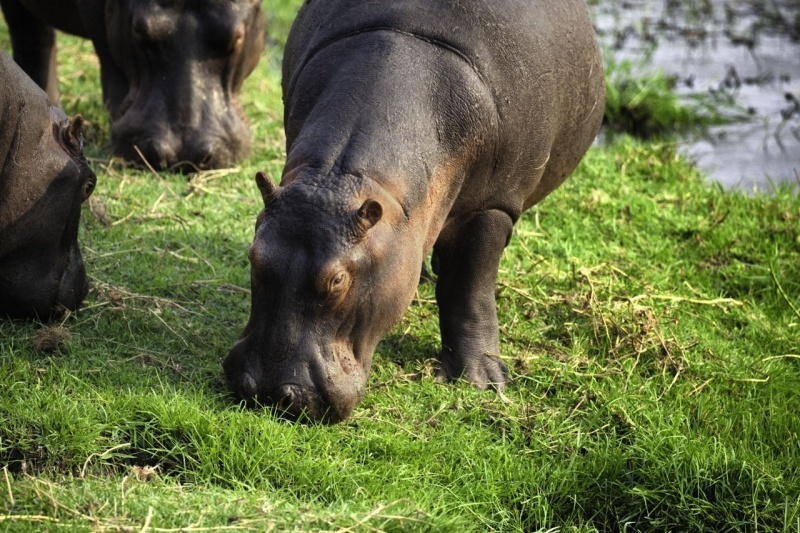hipopotamo: (197, 1, 606, 438), (4, 1, 271, 171), (1, 49, 105, 331)
